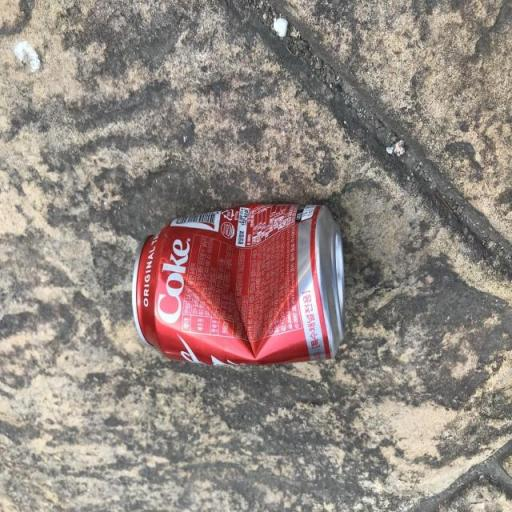metal: (116, 182, 366, 392)
